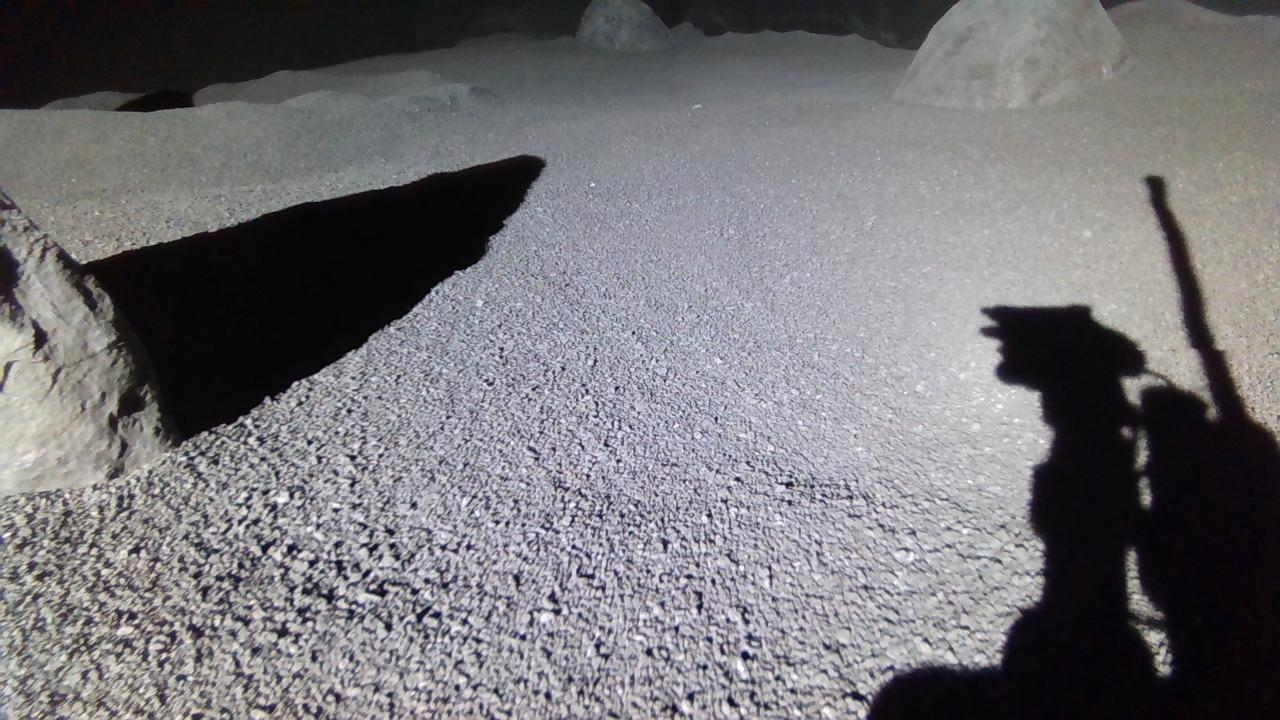rock: (894, 0, 1134, 108), (576, 0, 674, 49)
